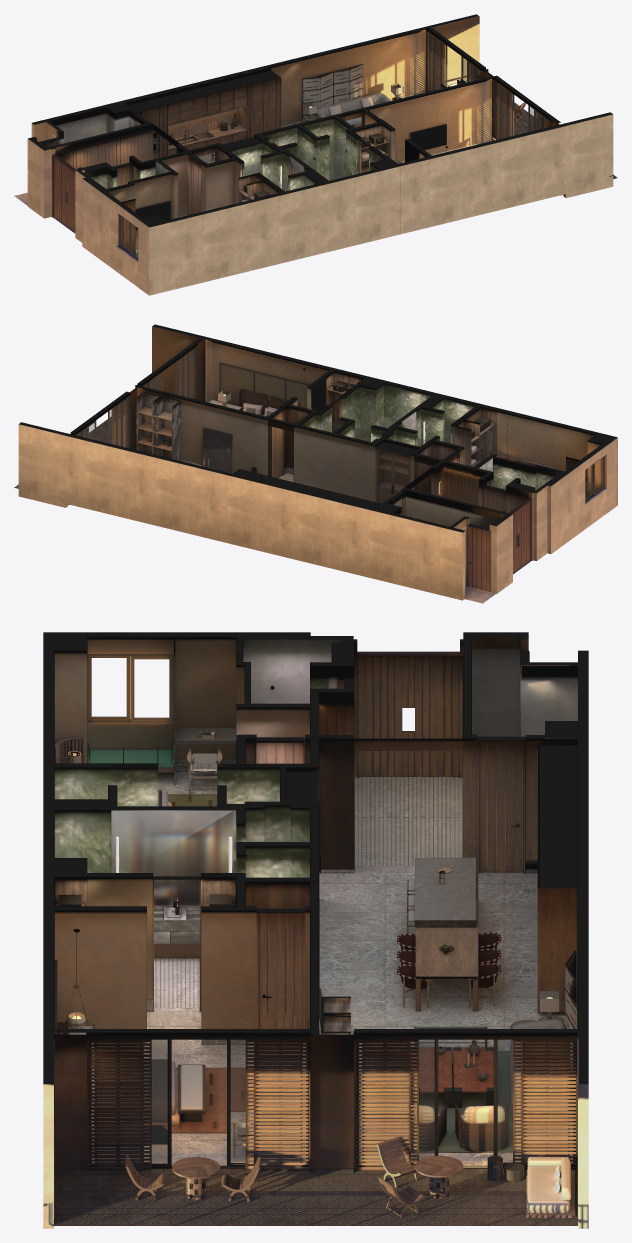
Rendered from Waldorf_tipologia_c.glb.
3 renders of one model, top to bottom at view 1: azimuth 30°, elevation 25°; view 2: azimuth 150°, elevation 25°; view 3: azimuth 270°, elevation 25°, orthographic. The views are drawn at different scales.
Visible parts, largest first — view 1: waldorf_archi_3, waldorf_arch_6, waldorf_archi_2, waldorf_archi_4, waldorf_arch_9, waldorf_arch_8, waldorf_props_2, Waldorf_ambiente_1, waldorf_piso, waldorf_props; view 2: waldorf_archi_3, waldorf_arch_6, waldorf_archi_4, waldorf_arch_9, waldorf_arch_8, waldorf_archi_2, waldorf_piso; view 3: waldorf_archi_4, waldorf_piso, waldorf_archi_3, waldorf_arch_6, waldorf_archi_2, waldorf_arch_9, Waldorf_ambiente_1, waldorf_arch_8, waldorf_props, waldorf_props_2.
Part boxes in pixels (left/top/right/bottom): waldorf_archi_3: left=27, top=14, right=613, bottom=295; waldorf_arch_6: left=39, top=108, right=396, bottom=231; waldorf_archi_2: left=56, top=67, right=491, bottom=217; waldorf_archi_4: left=53, top=26, right=560, bottom=256; waldorf_arch_9: left=304, top=81, right=559, bottom=180; waldorf_arch_8: left=118, top=145, right=314, bottom=260; waldorf_props_2: left=242, top=64, right=385, bottom=201; Waldorf_ambiente_1: left=315, top=77, right=526, bottom=140; waldorf_piso: left=14, top=101, right=617, bottom=251; waldorf_props: left=153, top=113, right=357, bottom=188; waldorf_archi_3: left=18, top=324, right=617, bottom=600; waldorf_arch_6: left=268, top=378, right=560, bottom=591; waldorf_archi_4: left=70, top=336, right=561, bottom=512; waldorf_arch_9: left=147, top=339, right=363, bottom=478; waldorf_arch_8: left=354, top=407, right=604, bottom=503; waldorf_archi_2: left=147, top=401, right=528, bottom=546; waldorf_piso: left=14, top=416, right=531, bottom=603; waldorf_archi_4: left=54, top=639, right=577, bottom=1172; waldorf_piso: left=54, top=772, right=577, bottom=1225; waldorf_archi_3: left=43, top=632, right=588, bottom=1228; waldorf_arch_6: left=54, top=639, right=529, bottom=1012; waldorf_archi_2: left=67, top=656, right=577, bottom=1092; waldorf_arch_9: left=54, top=876, right=564, bottom=1193; Waldorf_ambiente_1: left=125, top=932, right=575, bottom=1217; waldorf_arch_8: left=54, top=637, right=476, bottom=979; waldorf_props: left=68, top=729, right=524, bottom=1181; waldorf_props_2: left=565, top=950, right=577, bottom=1096.
Bounding box in the file's own units: 19.91 × 2.99 × 10.
14 materials, 11 textured.
